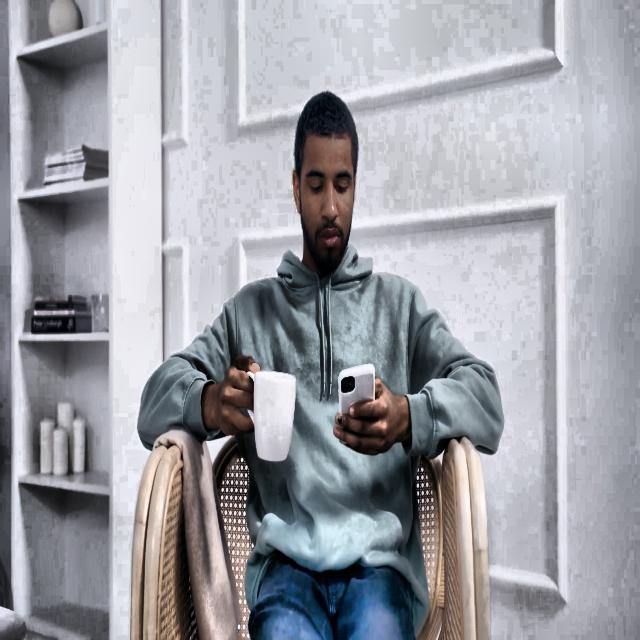Phone: (338, 362, 377, 414)
